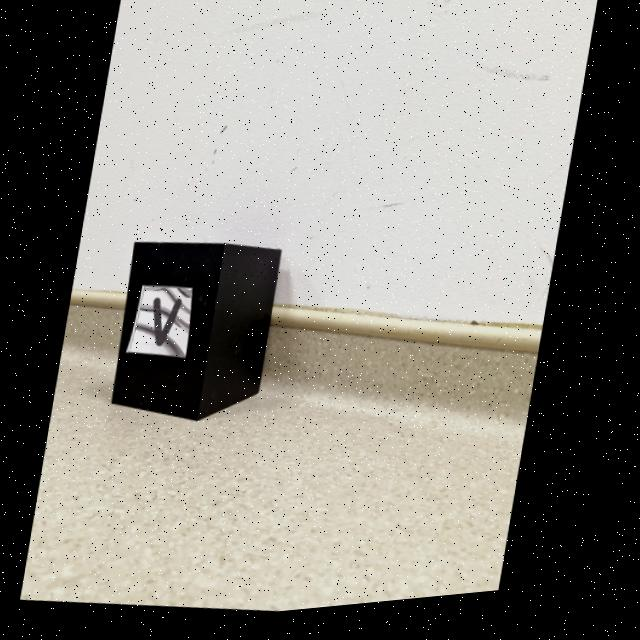V: (155, 301, 183, 350)
